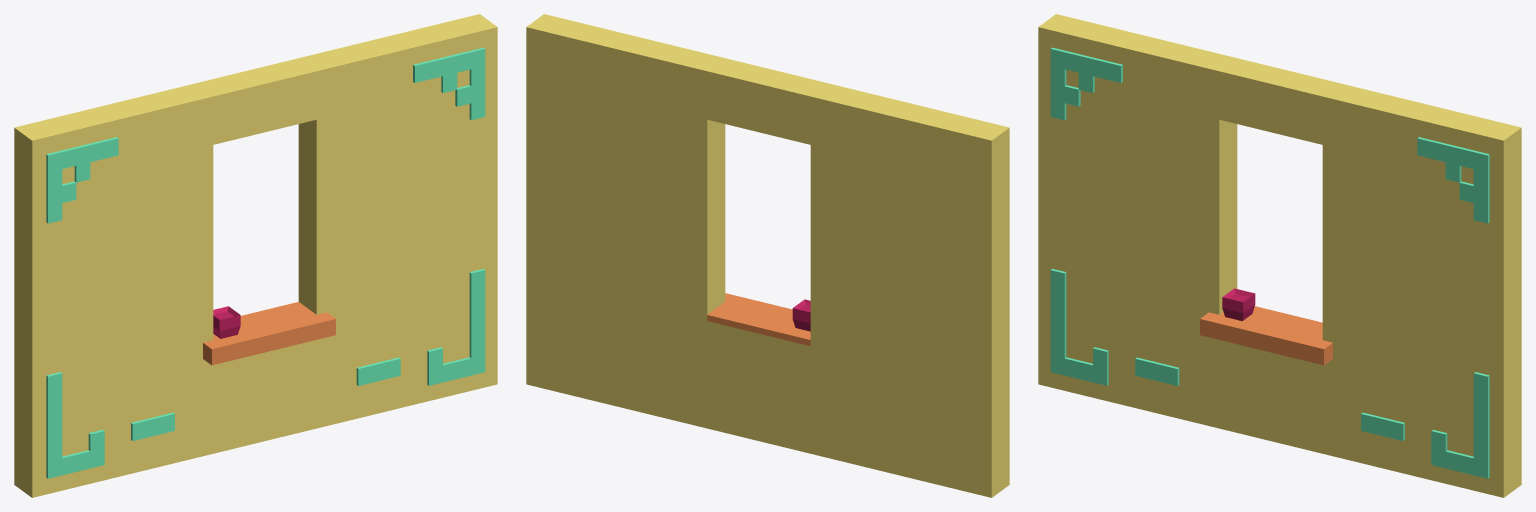
Rendered from Wall01.fbx.
The picture shows the model from 3 angles, left to right: view 1: azimuth 30°, elevation 25°; view 2: azimuth 150°, elevation 25°; view 3: azimuth 330°, elevation 25°; orthographic projection.
Parts seen in each view (by area): view 1: Wall_front, Wall_front.001, shell_1.002, pot; view 2: Wall_front, shell_1.002; view 3: Wall_front, Wall_front.001, shell_1.002, pot.
Boxes of the visible parts, x1,y1,x2,y2 form: Wall_front: (14,14,497,497); Wall_front.001: (46,47,485,478); shell_1.002: (203,302,335,365); pot: (213,306,240,338); Wall_front: (526,14,1009,497); shell_1.002: (707,293,810,346); Wall_front: (1038,14,1521,497); Wall_front.001: (1050,47,1489,478); shell_1.002: (1200,306,1332,365); pot: (1222,288,1255,321).
Bounding box in the file's own units: 1500 × 1100 × 150.
